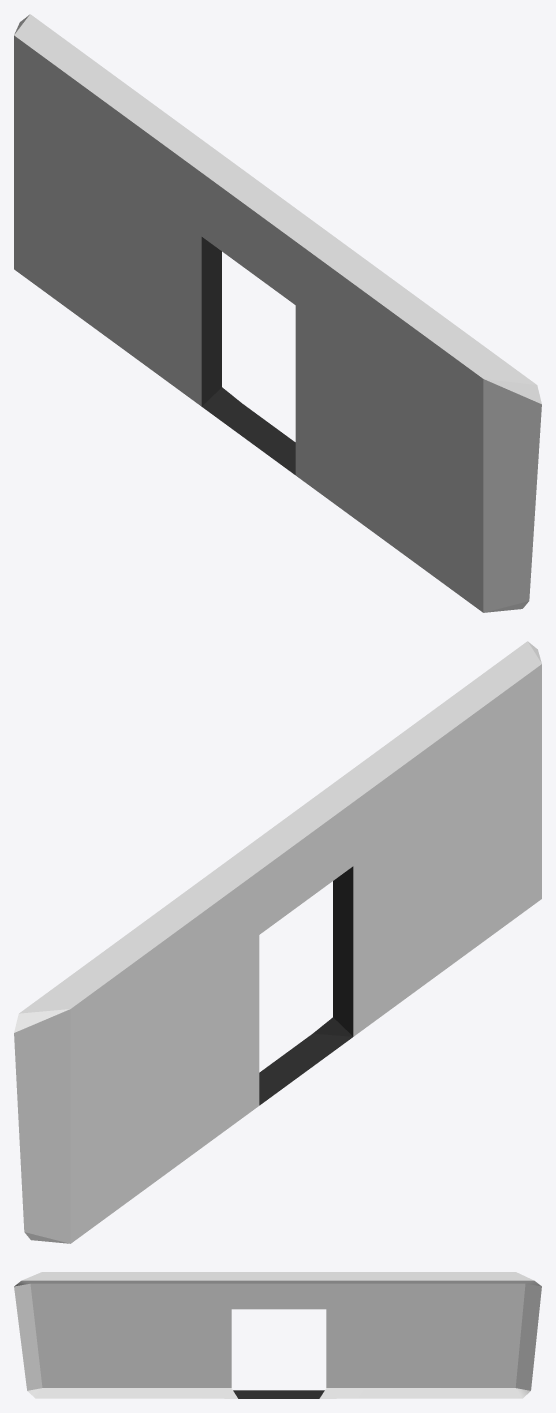
The model's file is CaptainsQuarters_RoomFill.fbx.
The picture shows the model from 3 angles, top to bottom: view 1: azimuth 30°, elevation 25°; view 2: azimuth 150°, elevation 25°; view 3: azimuth 270°, elevation 25°; orthographic projection. The views are drawn at different scales.
Visible parts, largest first — view 1: CaptainsQuarters_RoomFill; view 2: CaptainsQuarters_RoomFill; view 3: CaptainsQuarters_RoomFill.
Boxes of the visible parts, left/top/right/bottom form: CaptainsQuarters_RoomFill: left=14, top=14, right=541, bottom=612; CaptainsQuarters_RoomFill: left=14, top=641, right=541, bottom=1243; CaptainsQuarters_RoomFill: left=14, top=1272, right=541, bottom=1398.
Bounding box in the file's own units: 168 × 1100 × 4448.
